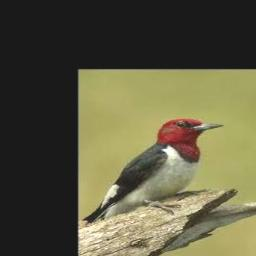Woodpecker: (82, 118, 224, 224)
